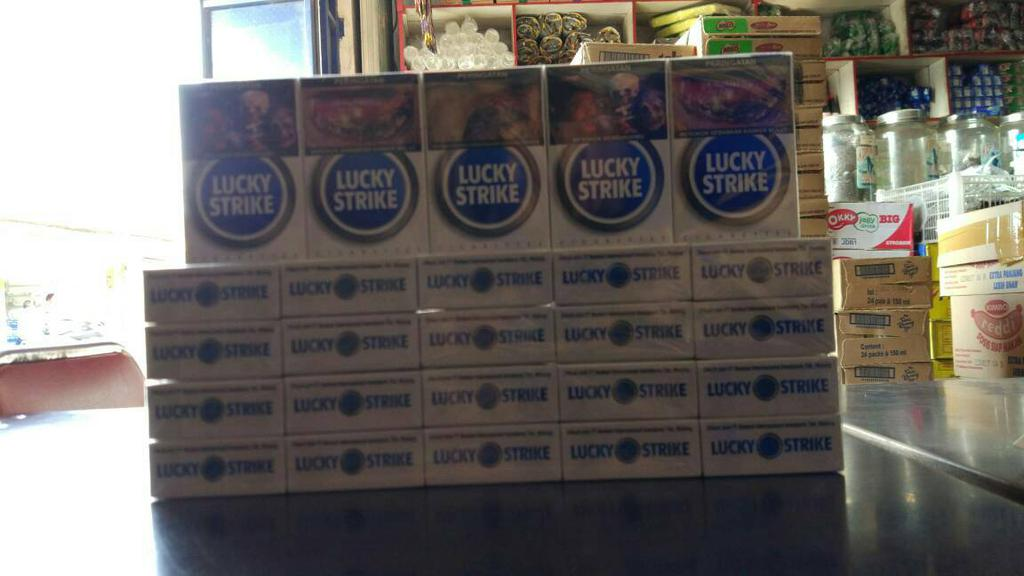lucky_strike_blue: (303, 79, 424, 256), (672, 63, 793, 237), (427, 75, 546, 251), (548, 70, 667, 244), (186, 87, 300, 260)
